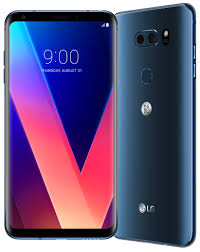lg: (2, 10, 120, 238), (115, 1, 200, 242)
